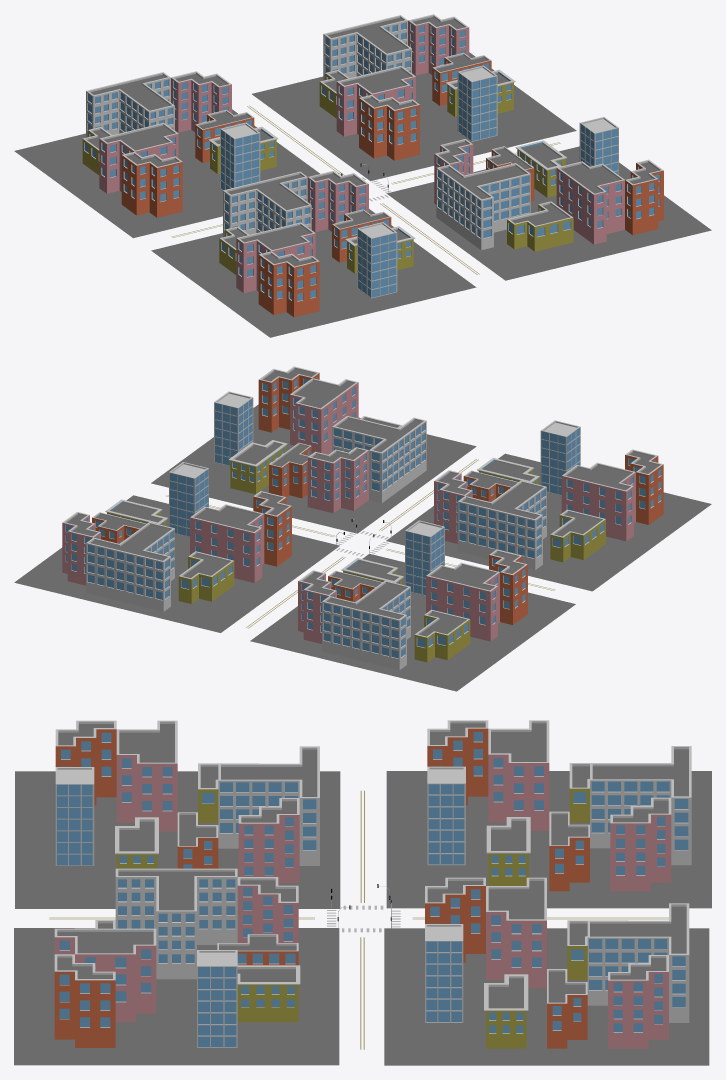
Rendered from int-test-12.fbx.
The picture shows the model from 3 angles, top to bottom: view 1: azimuth 30°, elevation 25°; view 2: azimuth 150°, elevation 25°; view 3: azimuth 270°, elevation 25°; orthographic projection. The views are drawn at different scales.
Visible parts, largest first — view 1: City.002, City, City.003, City.001; view 2: City.001, City, City.003, City.002; view 3: City.003, City, City.001, City.002.
Boxes of the visible parts, <box> form: City.002: <box>151,171,476,337</box>; City: <box>252,14,576,181</box>; City.003: <box>386,117,711,280</box>; City.001: <box>14,71,319,238</box>; City.001: <box>250,520,575,691</box>; City: <box>14,462,339,632</box>; City.003: <box>151,366,476,533</box>; City.002: <box>386,420,711,591</box>; City.003: <box>14,868,339,1065</box>; City: <box>384,877,709,1065</box>; City.001: <box>386,720,711,908</box>; City.002: <box>15,720,340,908</box>.
Size of what is drawn, in the model's own units: 225 by 29.15 by 225.
